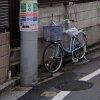bicycles: (39, 18, 89, 74)
